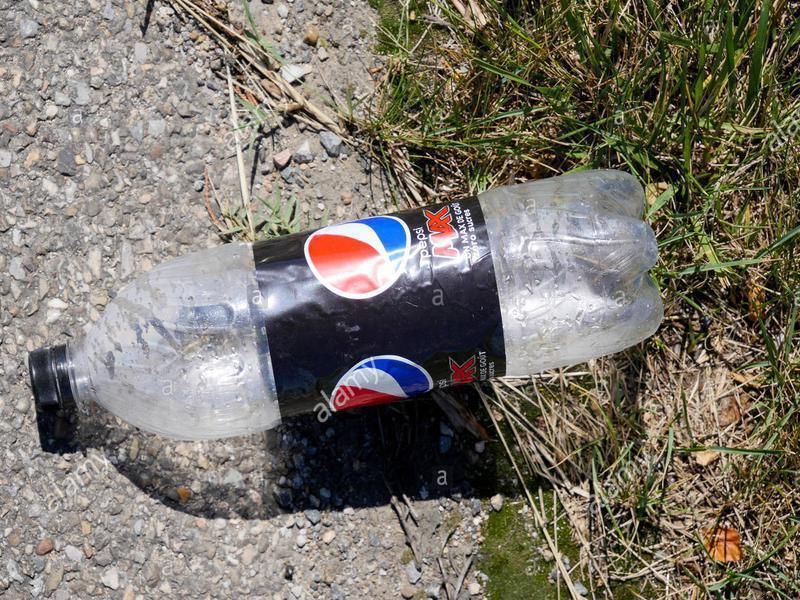bottle: (20, 165, 676, 454)
